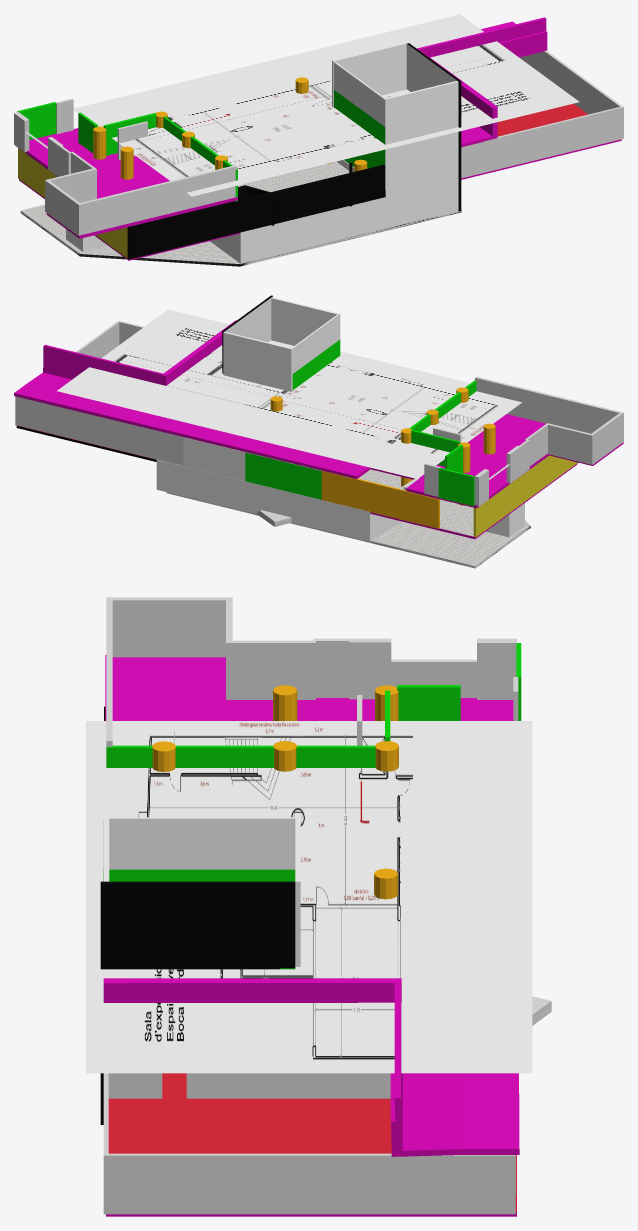
File: bocanord-0.6.glb
3 renders of one model, top to bottom at view 1: azimuth 30°, elevation 25°; view 2: azimuth 150°, elevation 25°; view 3: azimuth 270°, elevation 25°, orthographic. The views are drawn at different scales.
Parts seen in each view (by area): view 1: WhatsApp Image 2021-10-09 at 08.57.33, south-wall-patio, back-wall, wall-concert-hall, floor-2nd, default-wall-2ndfloor.001, floor, floor 1er piso, bar-wall, south-wall-glass, east-wall, default-wall.005 (+12 smaller); view 2: WhatsApp Image 2021-10-09 at 08.57.33, floor-2nd, north-wall, default-wall-2ndfloor.001, wall-concert-hall, default-wall.001, floor, recepcio-wall, south-wall-glass, default-wall.005, floor 1er piso, bar-wall (+12 smaller); view 3: WhatsApp Image 2021-10-09 at 08.57.33, floor-2nd, wall-concert-hall, floor 1er piso, east-wall, default-wall-2ndfloor.001, bar-wall, default-wall-2ndfloor.002, wall-camerino-right, default-wall.002, default-wall-2ndfloor.003, wall-crystall.001 (+2 smaller).
Part boxes in pixels (x1,y1,x2,y2): WhatsApp Image 2021-10-09 at 08.57.33: (73, 14, 579, 196); south-wall-patio: (210, 81, 457, 263); back-wall: (127, 164, 385, 259); wall-concert-hall: (461, 50, 623, 178); floor-2nd: (21, 17, 547, 238); default-wall-2ndfloor.001: (45, 151, 237, 236); floor: (20, 204, 461, 266); floor 1er piso: (19, 103, 621, 260); bar-wall: (334, 62, 386, 190); south-wall-glass: (332, 42, 406, 107); east-wall: (406, 43, 461, 211); default-wall.005: (18, 148, 127, 257); WhatsApp Image 2021-10-09 at 08.57.33: (57, 309, 521, 478); floor-2nd: (14, 320, 623, 508); north-wall: (156, 459, 370, 541); default-wall-2ndfloor.001: (475, 376, 623, 466); wall-concert-hall: (15, 320, 183, 465); default-wall.001: (183, 437, 321, 499); floor: (166, 492, 530, 568); recepcio-wall: (321, 471, 439, 528); south-wall-glass: (223, 331, 292, 391); default-wall.005: (473, 455, 577, 537); floor 1er piso: (16, 425, 577, 539); bar-wall: (289, 314, 340, 391); WhatsApp Image 2021-10-09 at 08.57.33: (86, 721, 532, 1073); floor-2nd: (103, 655, 519, 1156); wall-concert-hall: (103, 1073, 515, 1214); floor 1er piso: (106, 1073, 516, 1216); east-wall: (100, 881, 295, 1124); default-wall-2ndfloor.001: (106, 597, 315, 746); bar-wall: (103, 817, 295, 881); default-wall-2ndfloor.002: (313, 638, 476, 699); wall-camerino-right: (108, 1073, 390, 1098); default-wall.002: (106, 745, 375, 767); default-wall-2ndfloor.003: (477, 638, 516, 699); wall-crystall.001: (397, 685, 460, 720).
Size of the model in its own units: 45.25 by 10.48 by 18.
Materials: 11 (4 with a texture image).
